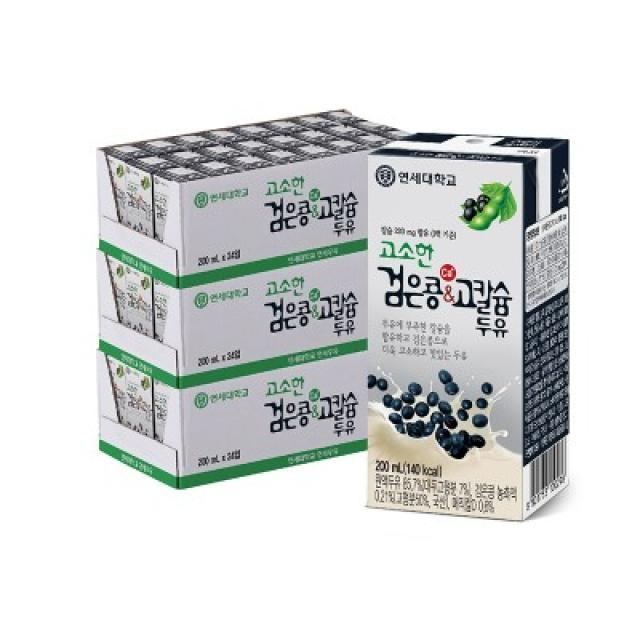Tetra: (371, 108, 583, 549)
